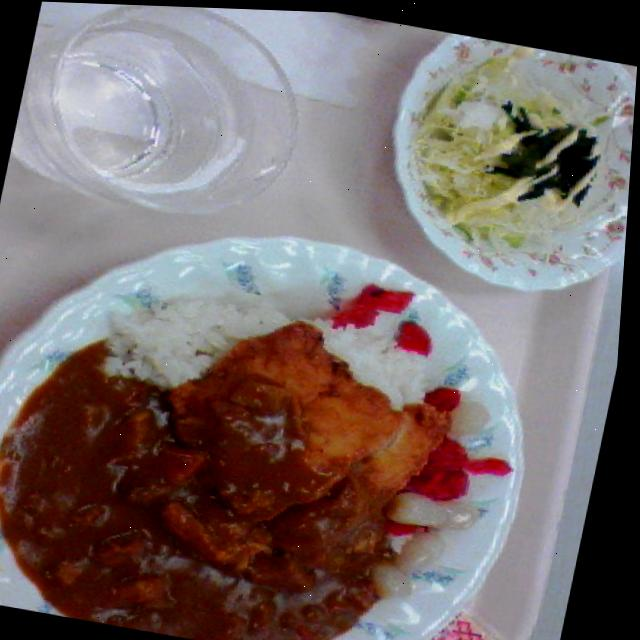牛肉菜式: (0, 232, 511, 640)
蔬菜料理: (411, 48, 632, 261)
